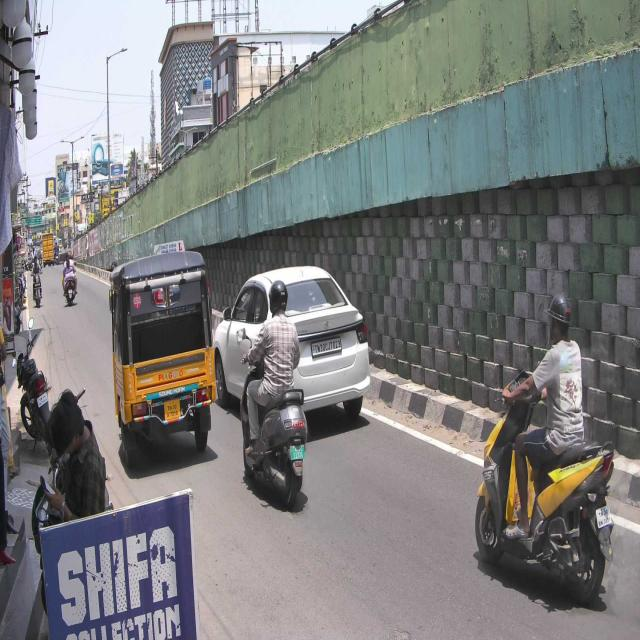single_rider: (475, 288, 617, 607), (237, 276, 310, 511)
